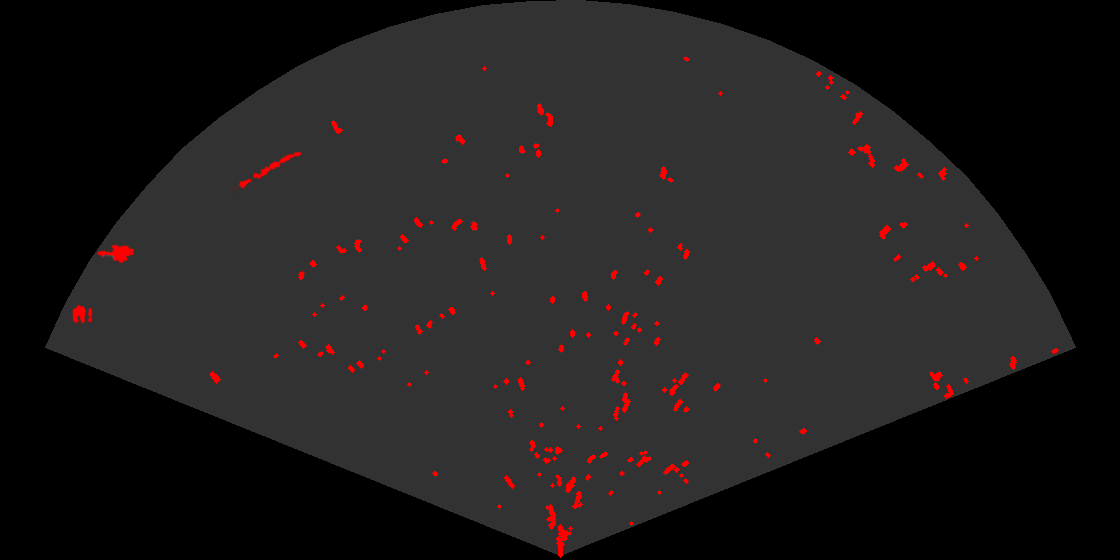AUV: (95, 243, 136, 265)
ball: (71, 303, 94, 325)
chain: (231, 150, 303, 194)
